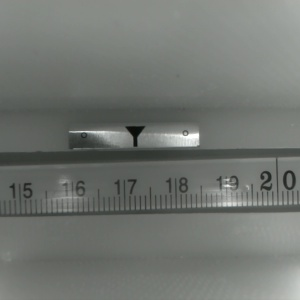0: (282, 171, 296, 191)
1: (8, 183, 15, 199), (59, 181, 66, 196), (165, 177, 171, 193), (114, 179, 120, 195), (215, 176, 221, 190)
2: (259, 171, 272, 190)
5: (22, 184, 32, 198)
6: (74, 180, 85, 196)
7: (127, 178, 137, 194)
8: (178, 177, 187, 192)
9: (228, 176, 238, 190)
finger: (123, 126, 145, 147)
